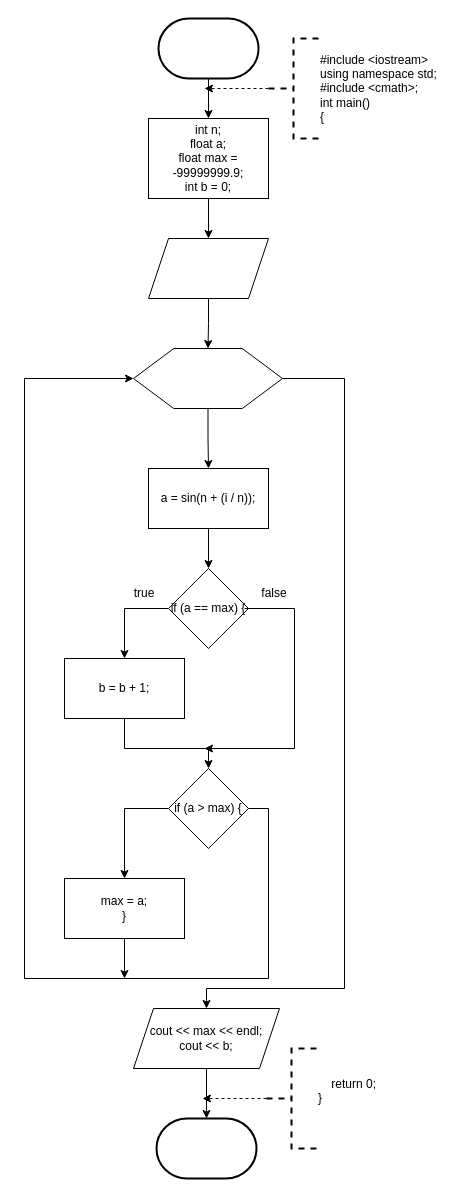
Image size: 455x1196. Some labels were removed from this diagram. The box of each missing label's shape, as (x1, y1, x2, y2) in pixels:
cin >> n;: (148, 238, 268, 298)
for (int i = 1; i <= n; i++) {: (132, 348, 282, 408)
конец: (155, 1117, 257, 1179)
начало: (157, 17, 259, 79)
